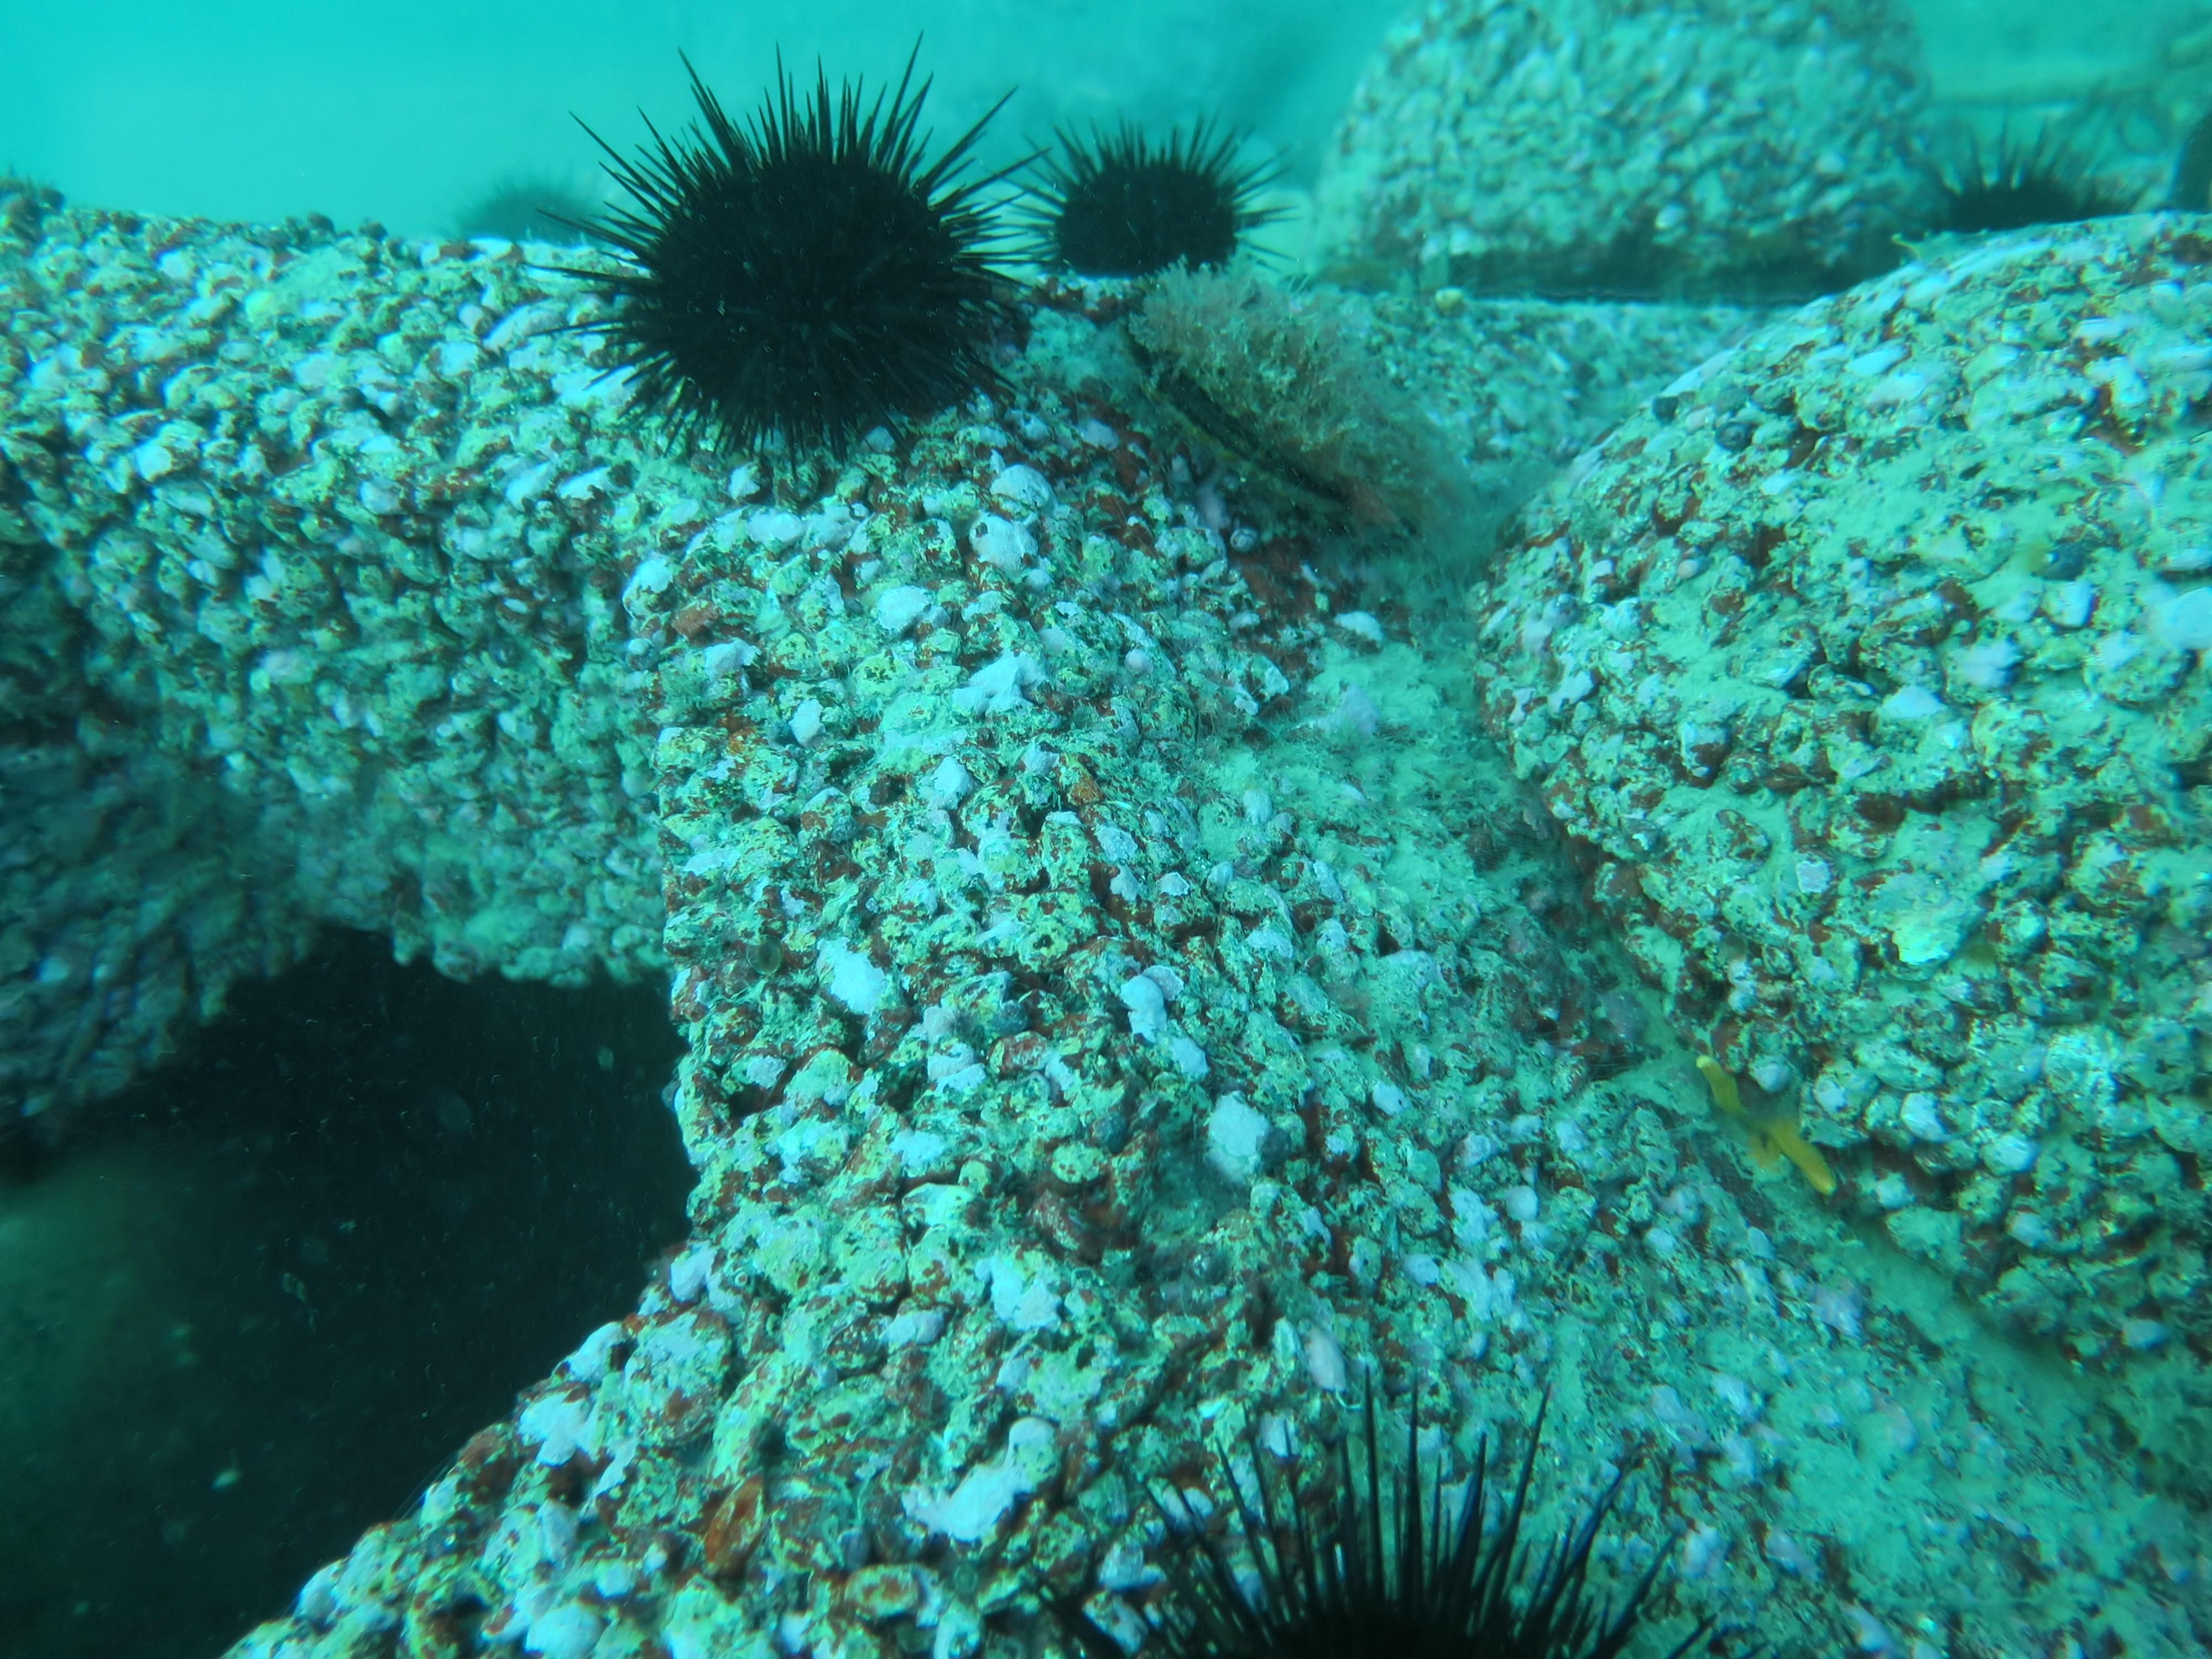urchin: (556, 38, 1055, 464), (984, 122, 1312, 291)
